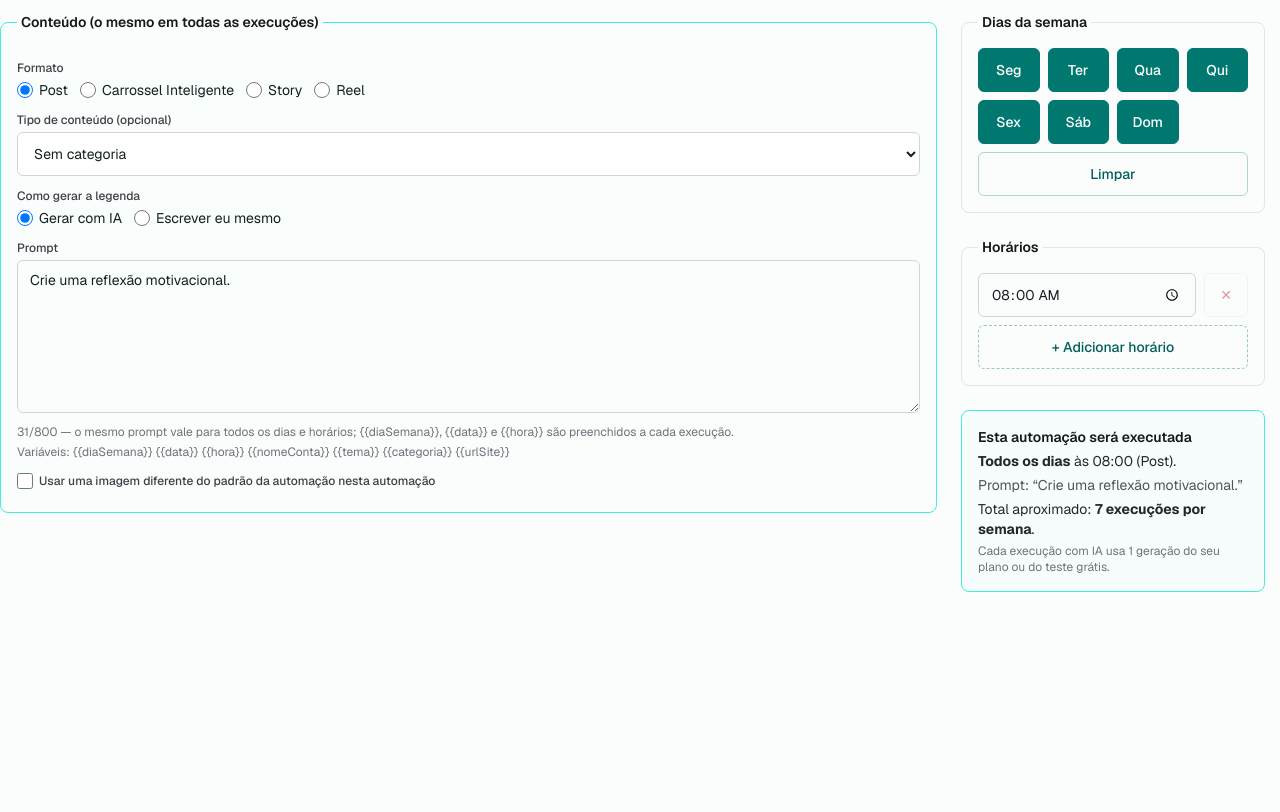
Test: SharedPromptEditor › adiciona e remove horários, e nunca deixa remover o último
Check: the button named "Remover horário 08:00" is disabled, box [1204,273,1248,317]
Click the button "+ Adicionar horário": (1113, 347) [978,325,1248,369]
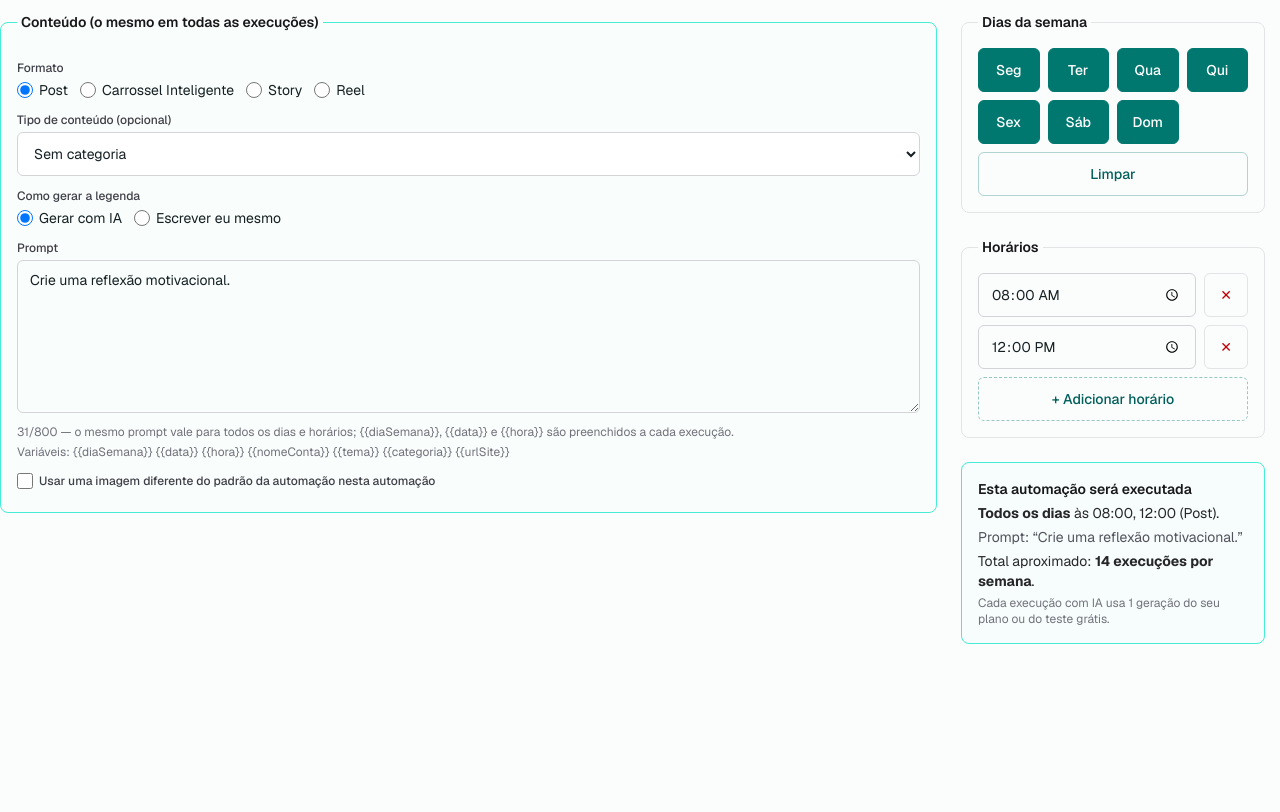
Check: the time field named "Horário 2" holds "12:00", box [978,325,1196,369]
Check: the text "14 execuções por semana" is shown, box [978,552,1214,590]
Click the button named "Remover horário 12:00": (1226, 347) [1204,325,1248,369]
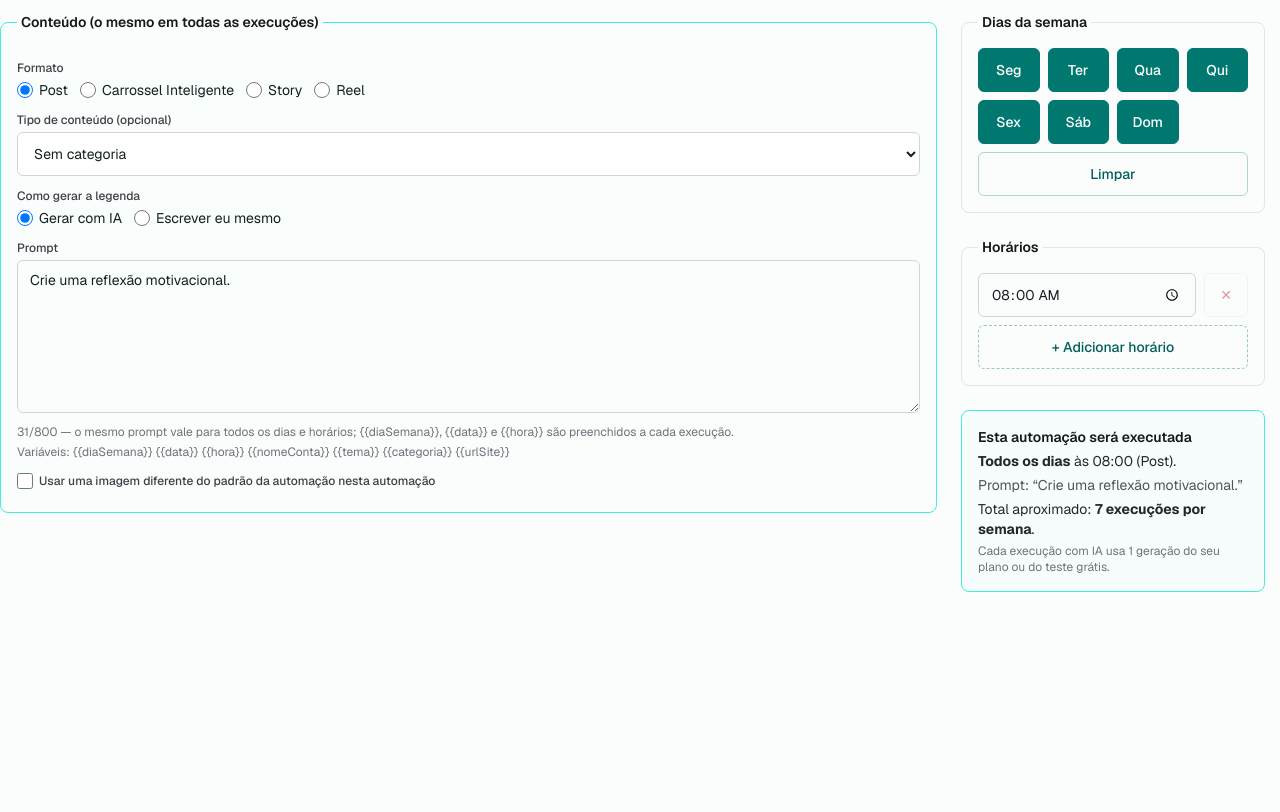
Check: the text "7 execuções por semana" is shown, box [978,500,1206,538]
